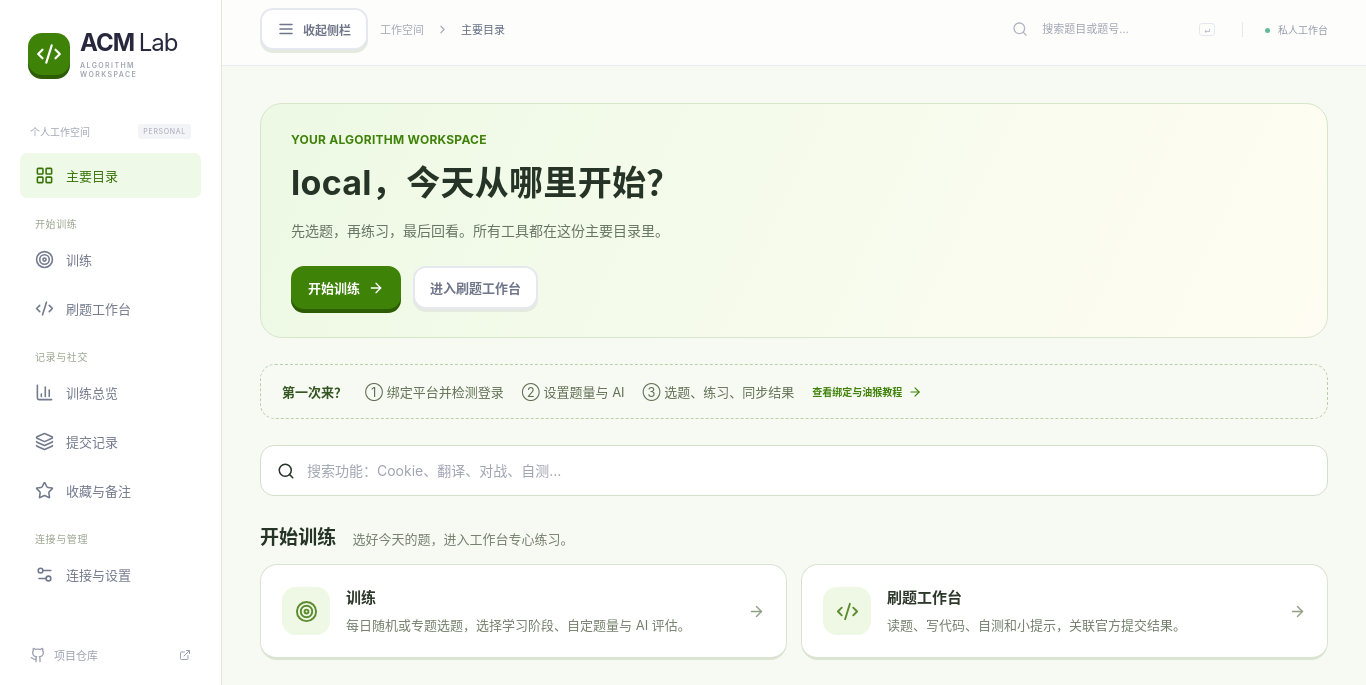
Test: keeps the channel and model dropdowns inside connections and settings only
The width and height of the screenshot is (1366, 685).
Click the button "连接与设置" at (110, 574), box [20,552,201,597]
(page scrolled)
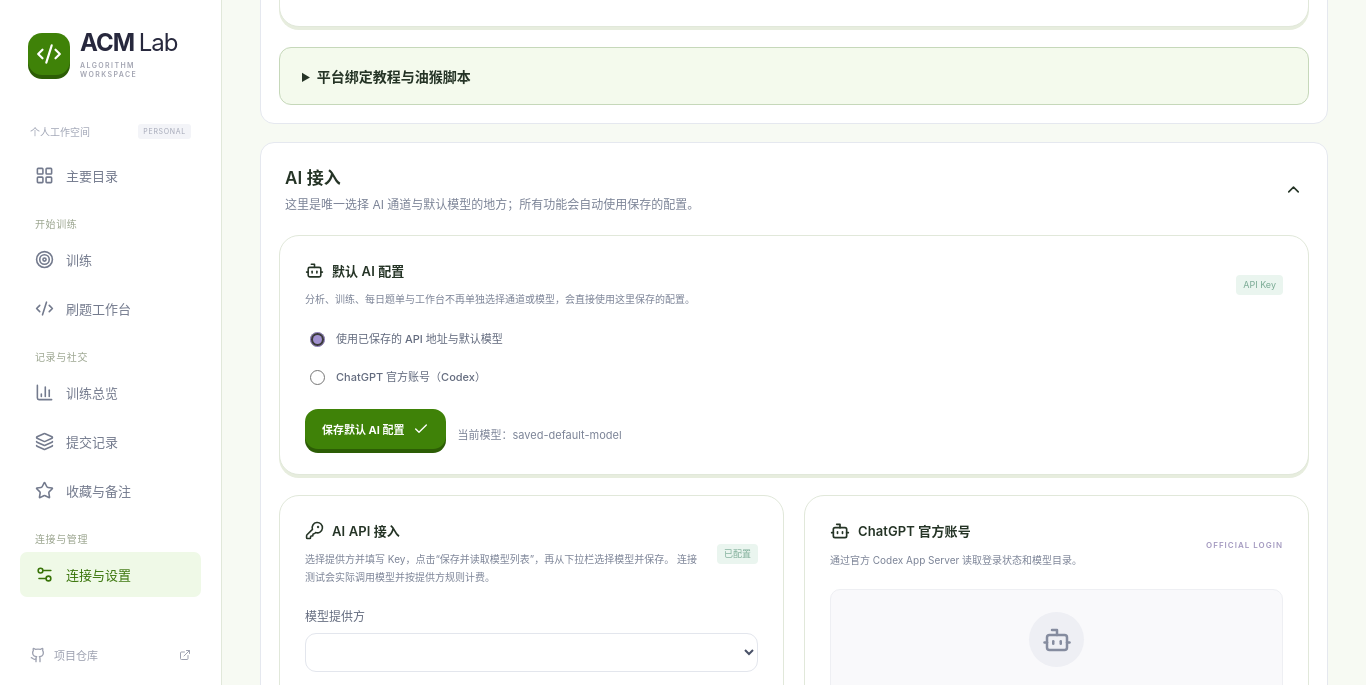
Expected: the radio button with aria-label "使用 API Key 通道" is shown, [310,332,325,347]
Expected: the radio button with aria-label "使用官方 Codex 通道" is shown, [310,370,325,385]
